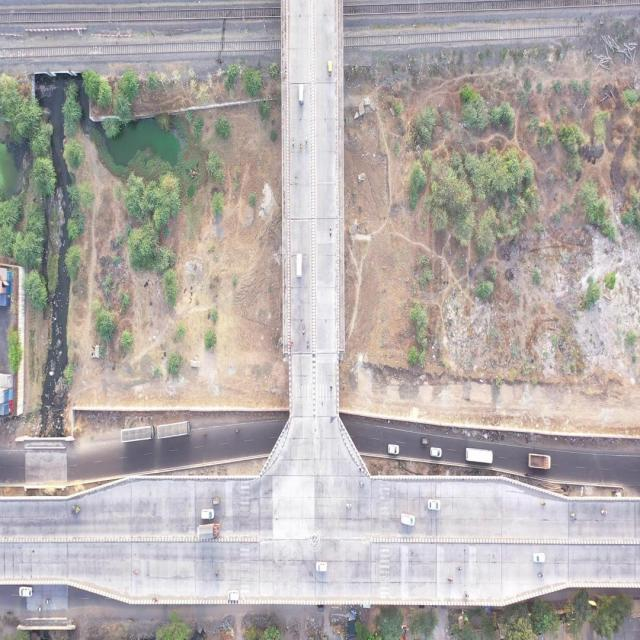3W: (324, 60, 336, 82), (69, 499, 81, 520), (212, 490, 222, 506)
Cars: (313, 552, 333, 578), (423, 494, 446, 516), (13, 580, 34, 603), (294, 242, 305, 283), (293, 77, 307, 107), (399, 508, 416, 531), (532, 545, 549, 568), (429, 441, 444, 463), (226, 585, 241, 606), (383, 443, 402, 459)
M2W: (358, 472, 368, 495), (598, 508, 610, 522), (293, 169, 301, 187), (328, 378, 336, 396), (344, 498, 353, 514), (568, 508, 579, 521), (324, 223, 334, 237), (134, 558, 140, 580), (454, 562, 466, 573), (538, 495, 548, 507), (302, 133, 310, 147), (445, 570, 453, 584), (299, 325, 308, 336), (289, 137, 298, 147)
MAV: (115, 414, 156, 452), (157, 411, 196, 448), (463, 445, 496, 470), (196, 521, 222, 546)
Truck: (524, 441, 555, 473)
